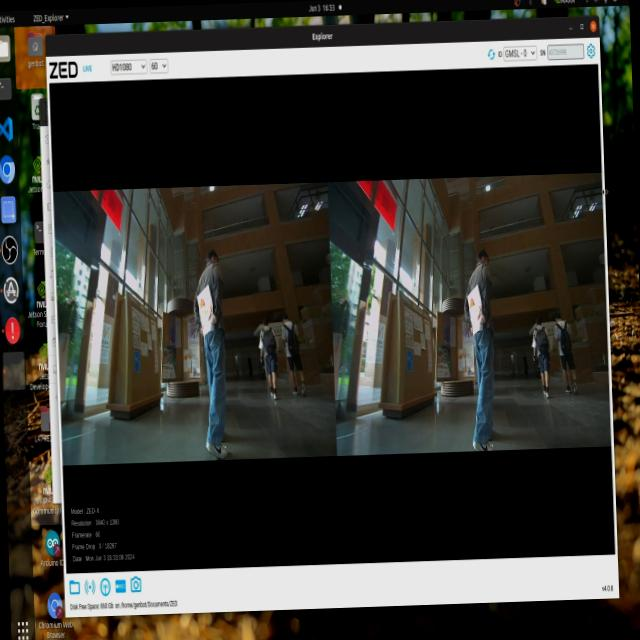red: (467, 293, 484, 330), (197, 296, 213, 332)
